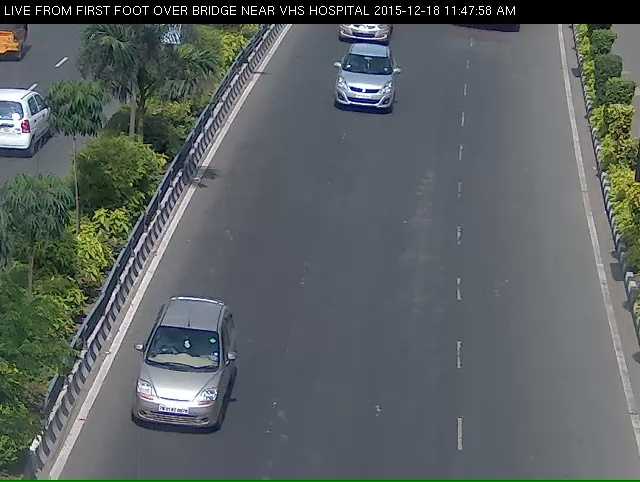Car: (135, 314, 227, 452), (331, 51, 394, 123), (336, 23, 392, 46)
